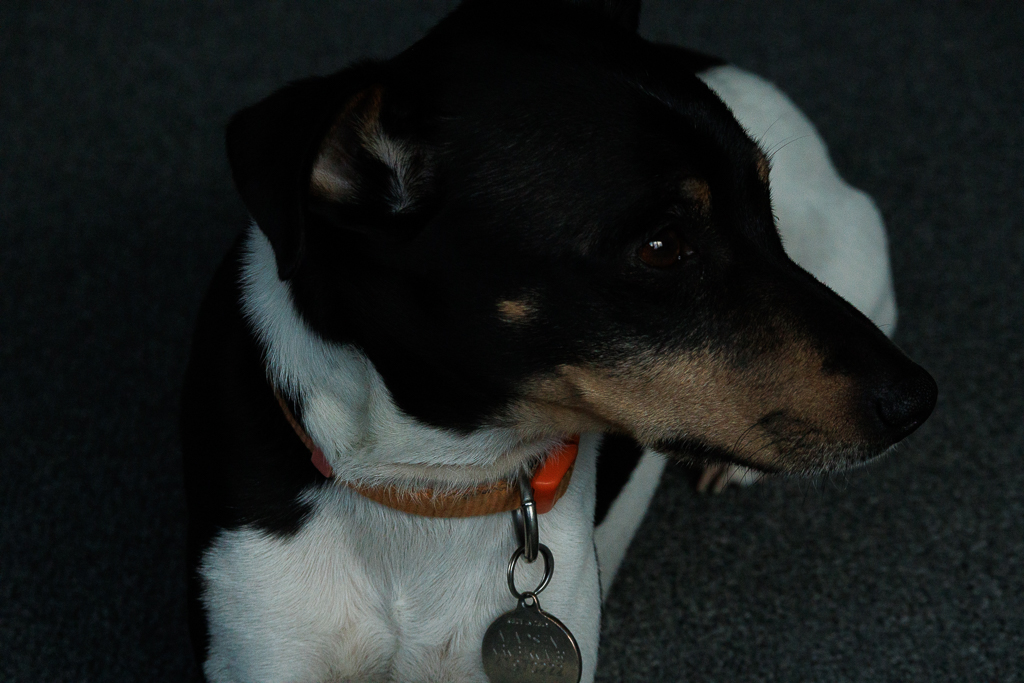Dog: (90, 0, 949, 683)
